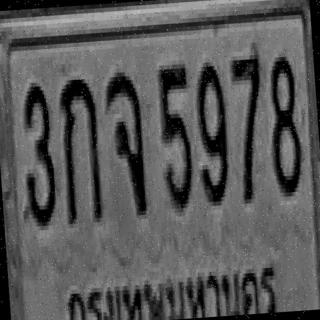A01: (58, 72, 104, 222)
A08: (103, 69, 148, 215)
N03: (18, 77, 58, 227)
N05: (156, 60, 195, 209)
N07: (229, 48, 268, 202)
N08: (265, 50, 304, 195)
N09: (192, 57, 231, 202)
